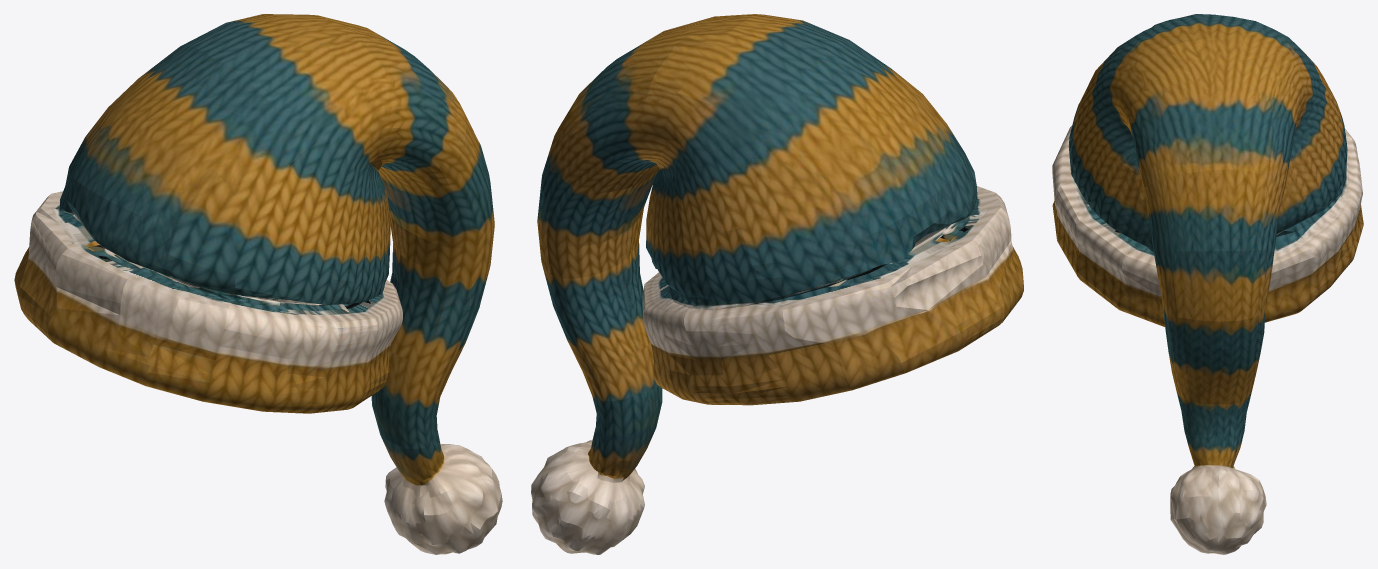
File: npc_acc_wool_cap_scarf.glb
3 views of the same model, side by side, from view 1: azimuth 30°, elevation 25°; view 2: azimuth 150°, elevation 25°; view 3: azimuth 270°, elevation 25° (orthographic). The views are drawn at different scales.
Parts seen in each view (by area): view 1: output_unwrapped; view 2: output_unwrapped; view 3: output_unwrapped.
Boxes of the visible parts, left/top/right/bottom form: output_unwrapped: left=14, top=14, right=502, bottom=554; output_unwrapped: left=531, top=14, right=1023, bottom=554; output_unwrapped: left=1052, top=14, right=1363, bottom=554.
Bounding box in the file's own units: 0.2976 × 0.35 × 0.2171.
Materials: 1 (1 with a texture image).
